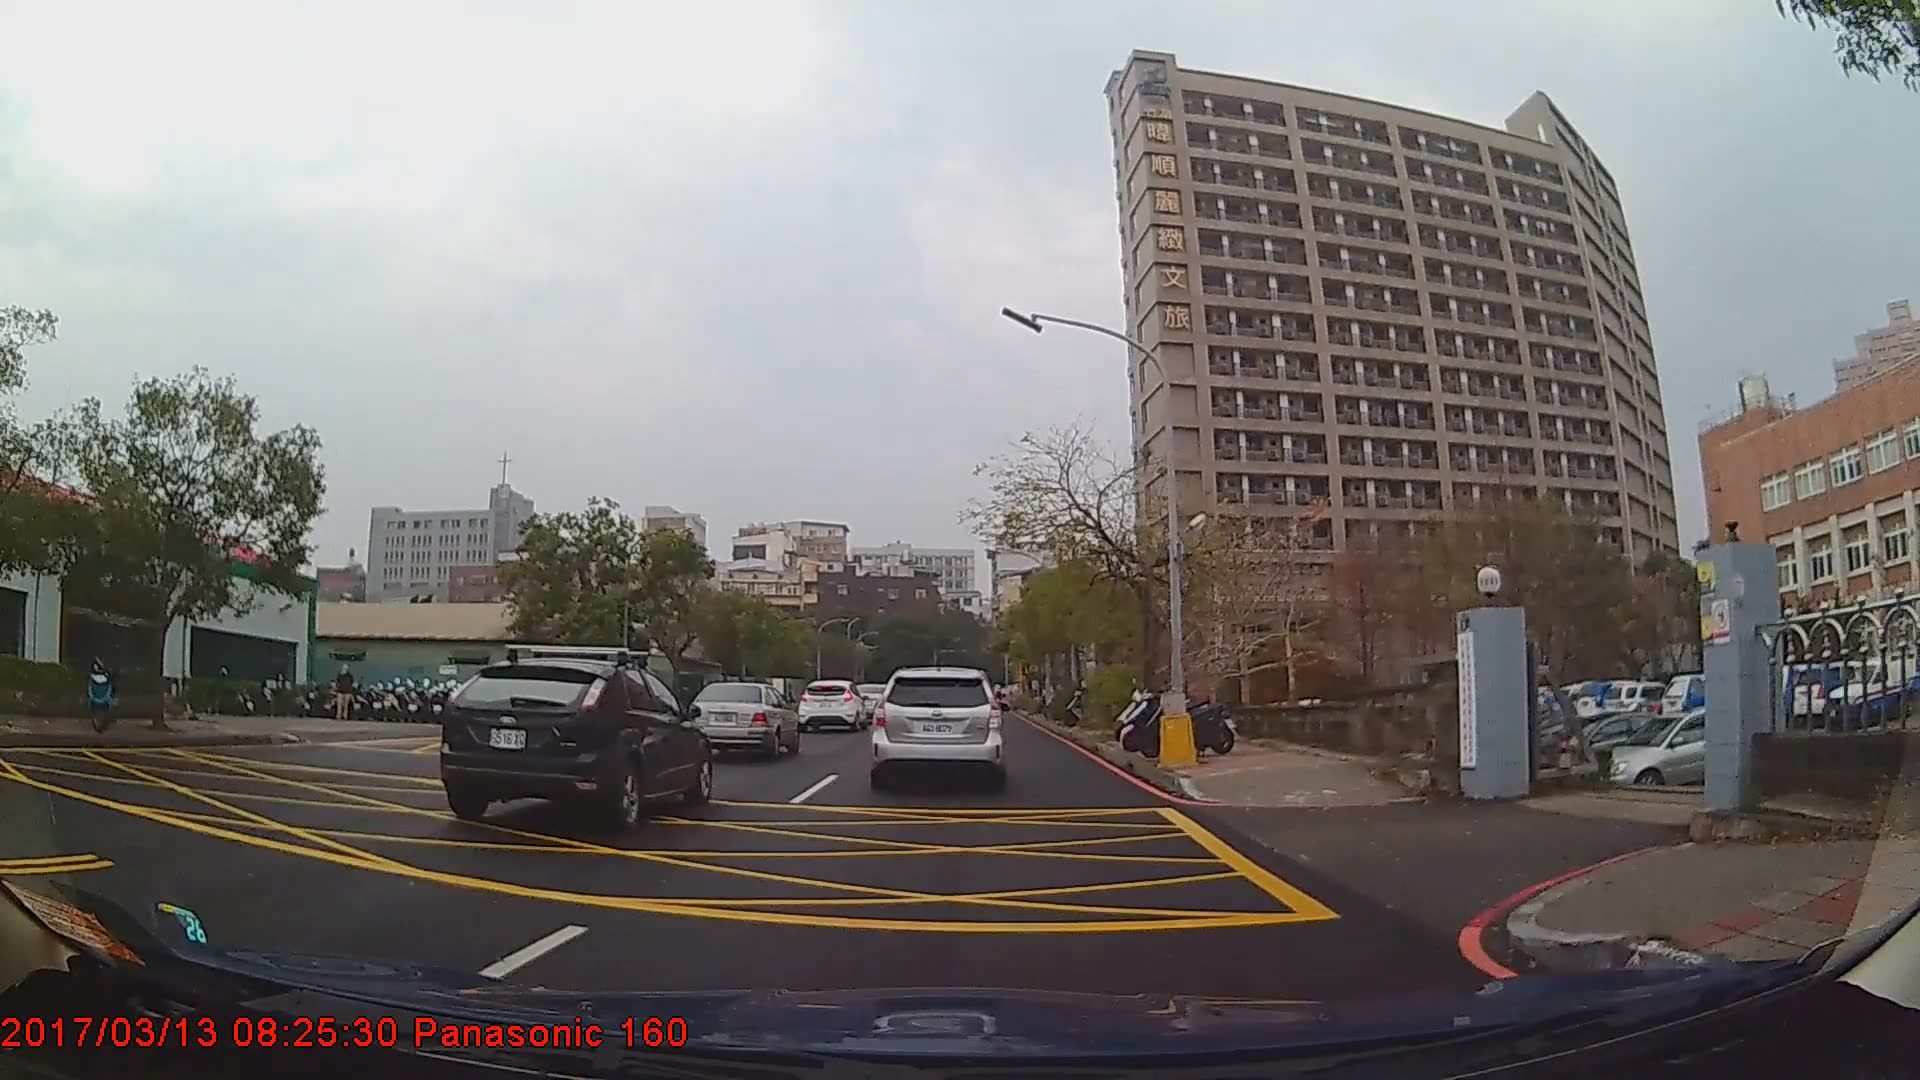pedestrian: (336, 663, 356, 722)
vehicle: (436, 655, 710, 831), (871, 666, 1002, 787), (685, 679, 800, 759), (797, 678, 867, 733)
